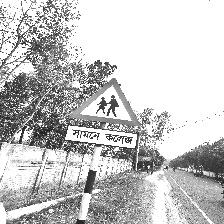College-in-front: (69, 68, 152, 156)
